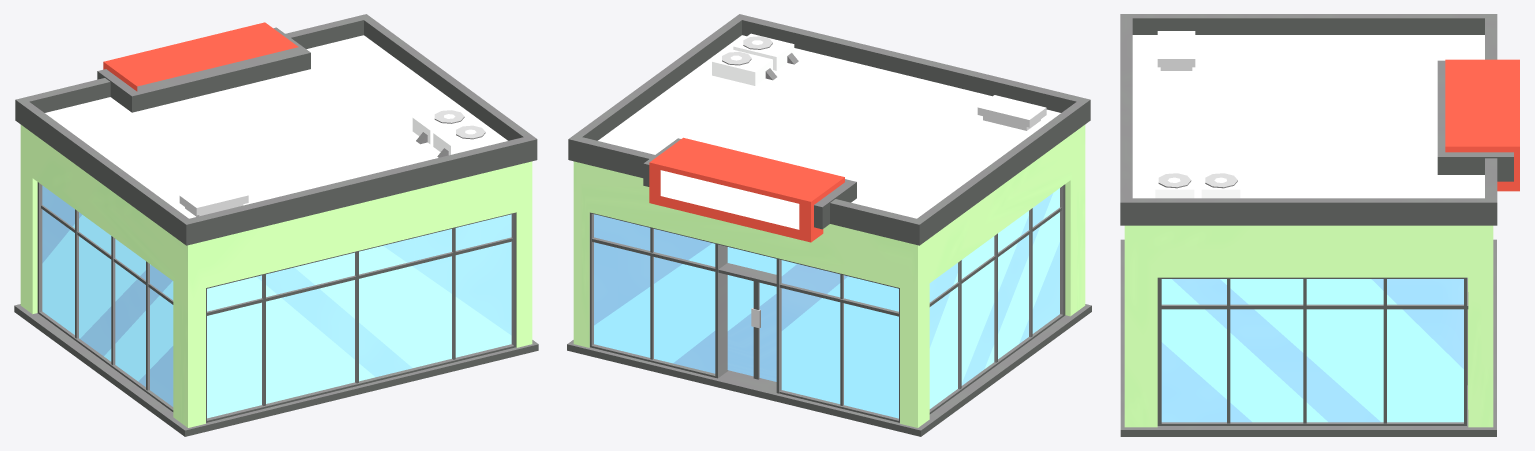
Rendered from supermarket.003.glb.
3 renders of one model, left to right at view 1: azimuth 30°, elevation 25°; view 2: azimuth 150°, elevation 25°; view 3: azimuth 270°, elevation 25°, orthographic. The views are drawn at different scales.
Parts seen in each view (by area): view 1: supermarket.003(Clone); view 2: supermarket.003(Clone); view 3: supermarket.003(Clone).
Part boxes in pixels (box(x1,y1,x2,y2)): supermarket.003(Clone): box(14, 14, 538, 436); supermarket.003(Clone): box(567, 14, 1091, 436); supermarket.003(Clone): box(1120, 14, 1519, 436).
Size of the model in its own units: 6.82 by 4.02 by 6.06.
1 material, 1 textured.
